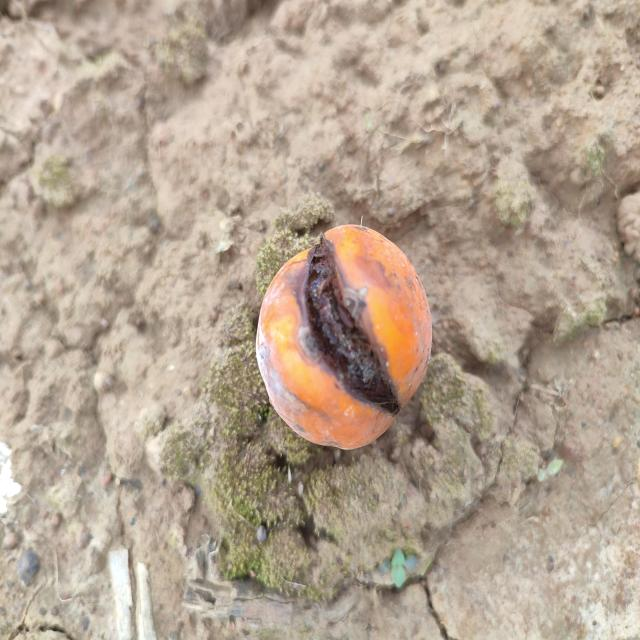damaged: (257, 226, 433, 452)
